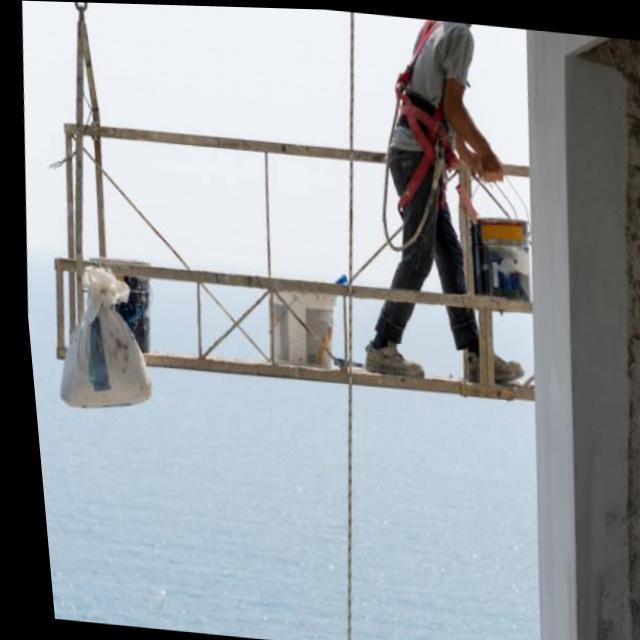belt: (372, 13, 477, 222)
